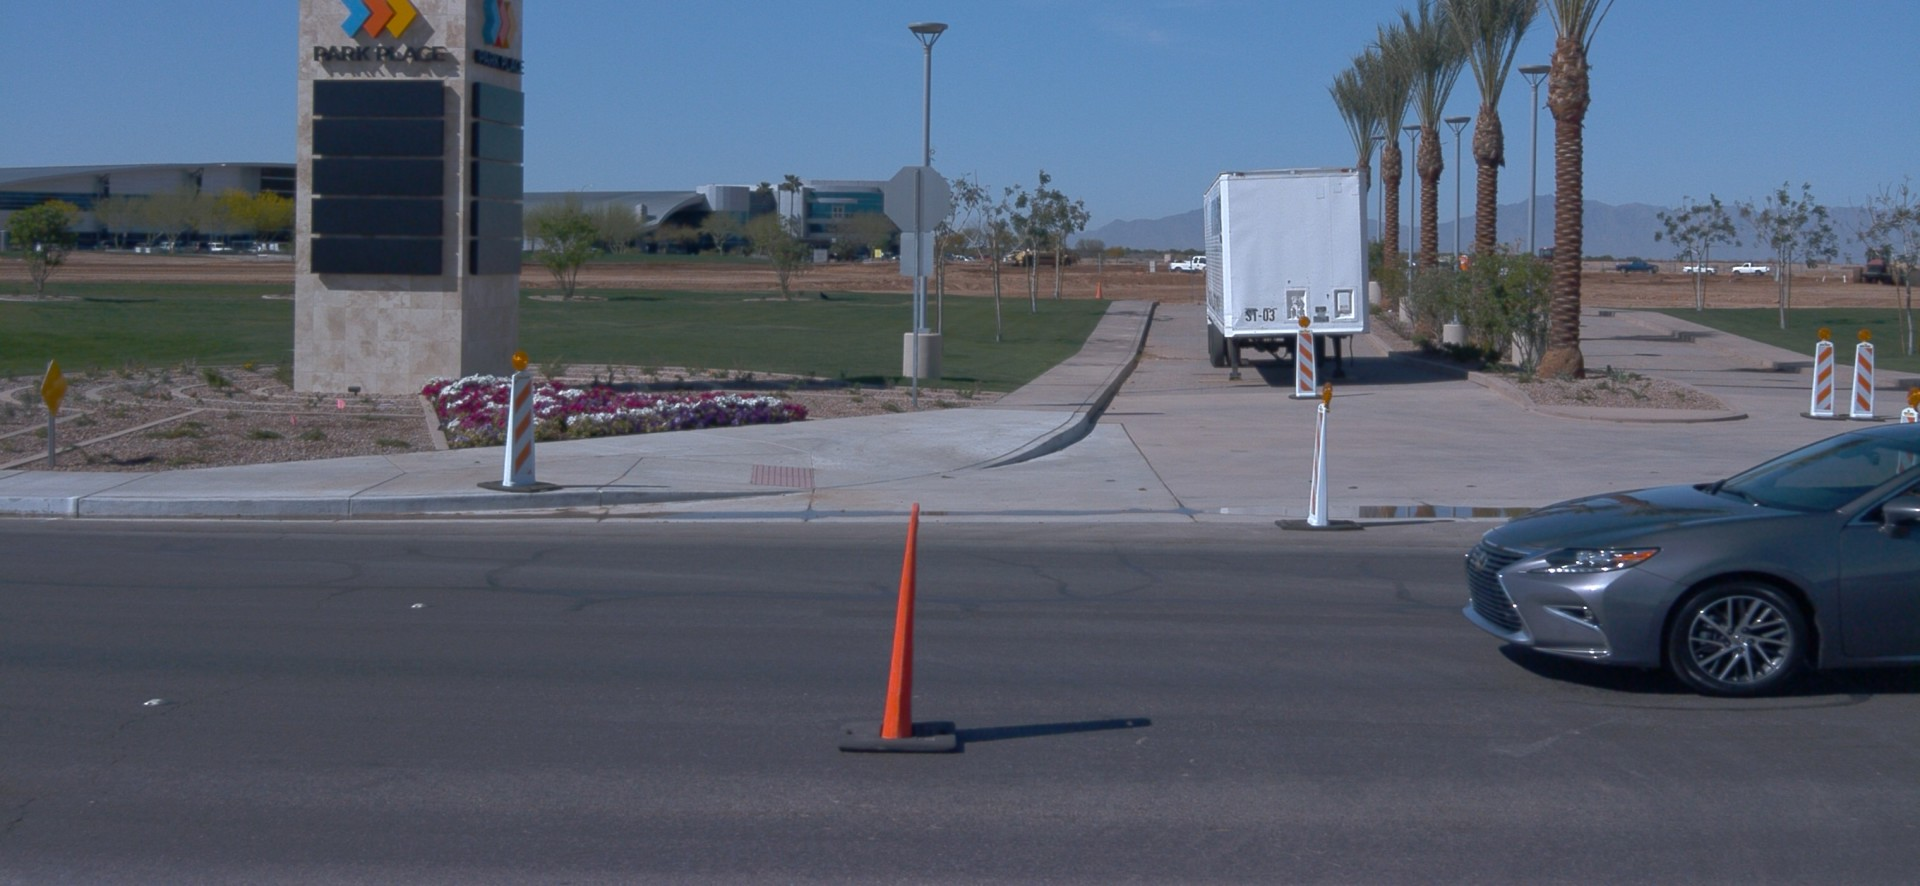TYPE_VEHICLE: (1461, 418, 1920, 699), (1199, 163, 1374, 381), (1850, 246, 1906, 288), (1003, 243, 1070, 264), (1486, 259, 1532, 282), (1615, 256, 1662, 272), (1170, 254, 1207, 274), (1728, 261, 1770, 276), (1530, 246, 1552, 268), (1678, 262, 1720, 273), (135, 242, 159, 253), (208, 242, 231, 253), (1001, 250, 1017, 264), (246, 242, 265, 253), (160, 241, 173, 254), (1408, 259, 1419, 267)
